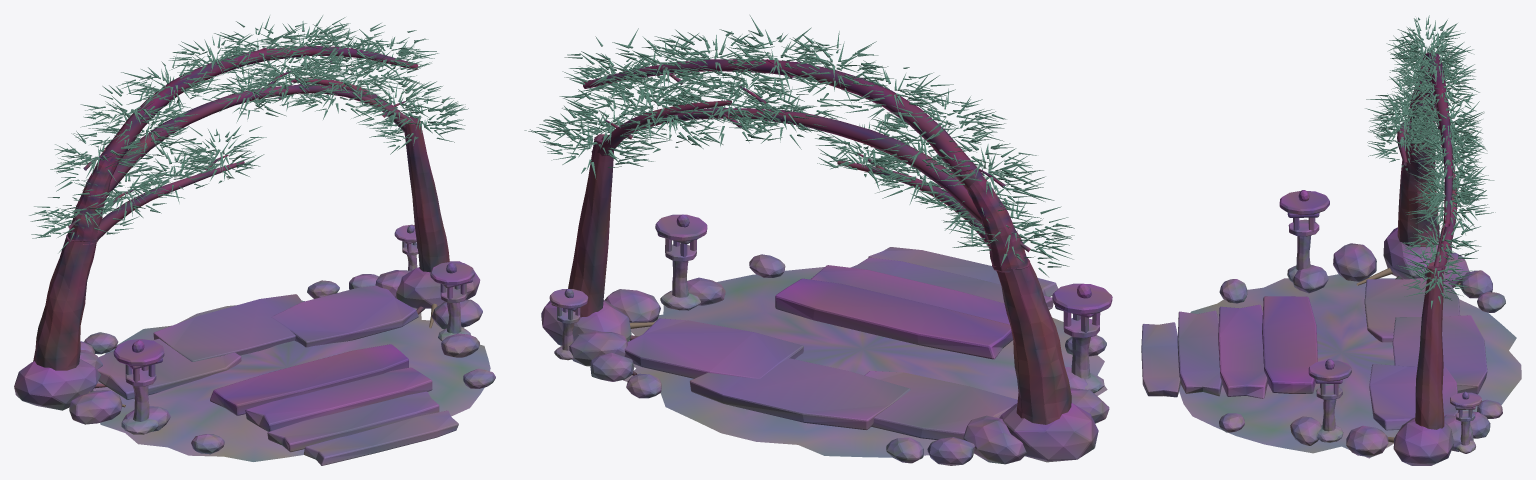
Rendered from project-court-frame.glb.
3 renders of one model, left to right at view 1: azimuth 30°, elevation 25°; view 2: azimuth 150°, elevation 25°; view 3: azimuth 270°, elevation 25°, orthographic. The views are drawn at different scales.
Parts seen in each view (by area): view 1: VIS_CourtDais_LOD0, VIS_CourtPineArch_LOD0, VIS_CourtRockRoots_LOD0, VIS_CourtLanterns_LOD0; view 2: VIS_CourtDais_LOD0, VIS_CourtPineArch_LOD0, VIS_CourtRockRoots_LOD0, VIS_CourtLanterns_LOD0; view 3: VIS_CourtDais_LOD0, VIS_CourtPineArch_LOD0, VIS_CourtRockRoots_LOD0, VIS_CourtLanterns_LOD0.
Boxes of the visible parts, x1,y1,x2,y2 form: VIS_CourtDais_LOD0: (93,285,490,465); VIS_CourtPineArch_LOD0: (29,15,468,391); VIS_CourtRockRoots_LOD0: (14,261,495,454); VIS_CourtLanterns_LOD0: (113,224,474,434); VIS_CourtDais_LOD0: (623,247,1107,457); VIS_CourtPineArch_LOD0: (524,15,1074,458); VIS_CourtRockRoots_LOD0: (541,254,1109,465); VIS_CourtLanterns_LOD0: (549,214,1112,393); VIS_CourtDais_LOD0: (1141,274,1521,458); VIS_CourtPineArch_LOD0: (1365,15,1495,429); VIS_CourtRockRoots_LOD0: (1219,227,1505,465); VIS_CourtLanterns_LOD0: (1279,190,1481,453).
Size of what is drawn, in the model's own units: 15.4 by 10 by 10.97.
